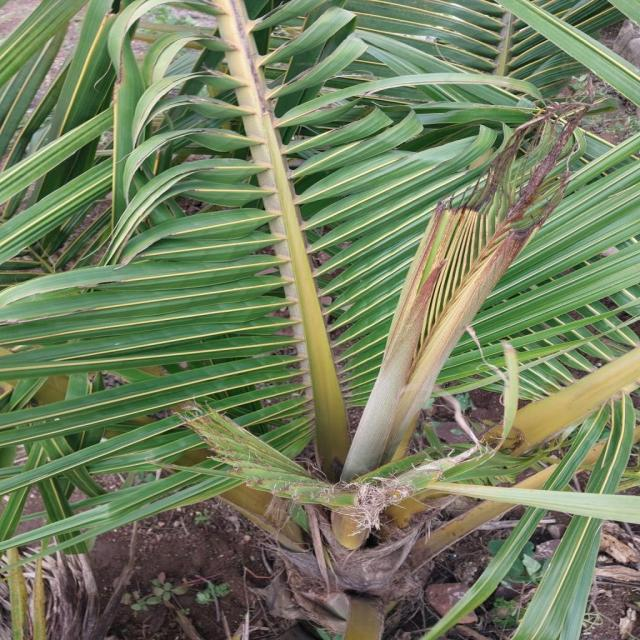bud rot: (342, 102, 588, 479)
